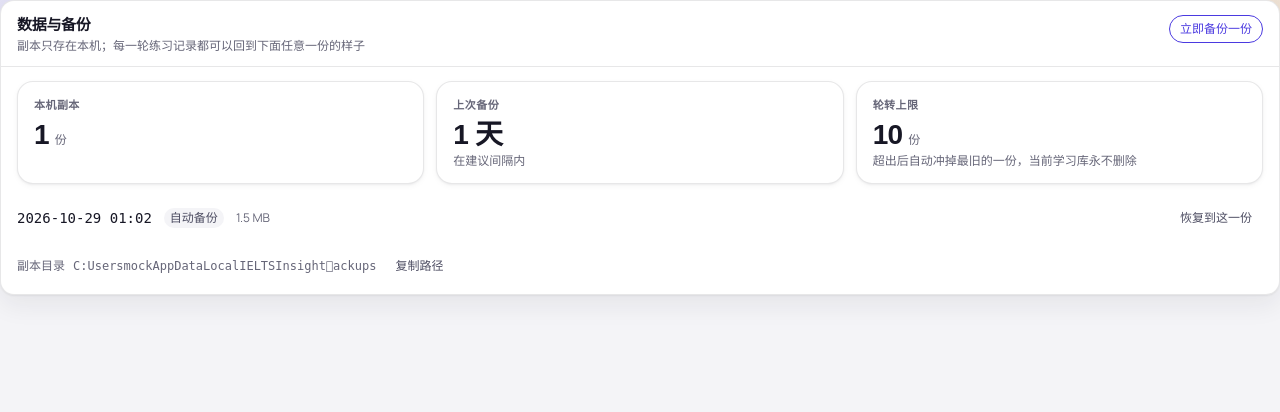
it: 数据与备份（§14.8） › 点「立即备份一份」→ POST /backup，成功后列表里就多一份手动备份
The image size is (1280, 412).
Expected: the list named "本机快照" is shown, [17,196,1263,240]
Step 1. Click the button "立即备份一份" → click(1216, 29), box [1169,15,1263,43]
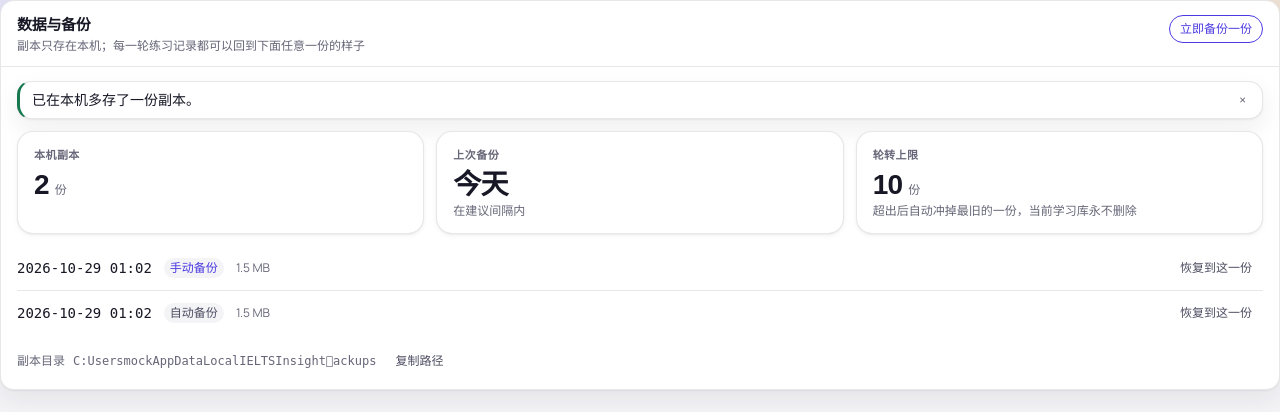
Now the number of list items is 2, box [17,246,1263,291]; [17,291,1263,335]
Now the list named "本机快照" shows "手动备份", box [170,259,218,276]
